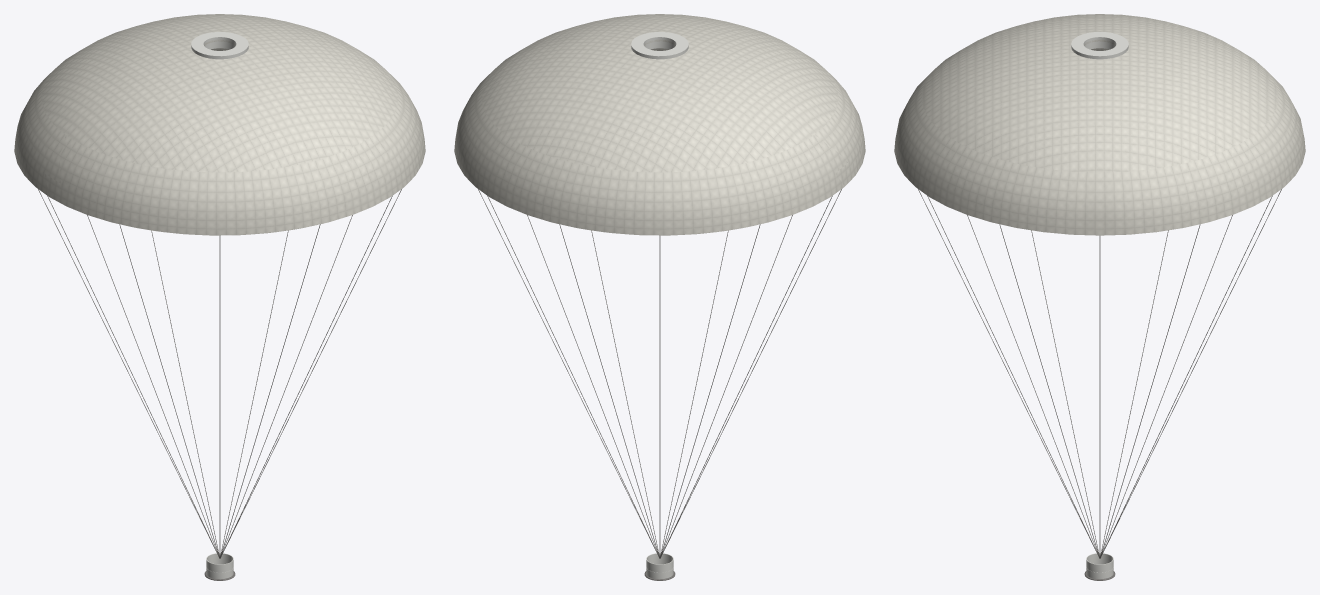
The model's file is ax_util_25_parachute_pack_m_deployed.glb.
The picture shows the model from 3 angles, left to right: view 1: azimuth 30°, elevation 25°; view 2: azimuth 150°, elevation 25°; view 3: azimuth 270°, elevation 25°; orthographic projection.
Parts seen in each view (by area): view 1: canopy, risers, vent_band, canister; view 2: canopy, risers, vent_band, canister; view 3: canopy, risers, vent_band, canister.
Boxes of the visible parts, x1,y1,x2,y2 form: canopy: (14, 14, 425, 235); risers: (38, 189, 401, 558); vent_band: (191, 32, 248, 59); canister: (206, 553, 233, 579); canopy: (454, 14, 865, 235); risers: (478, 189, 841, 558); vent_band: (631, 32, 688, 59); canister: (646, 553, 673, 579); canopy: (894, 14, 1305, 235); risers: (918, 189, 1281, 558); vent_band: (1071, 32, 1128, 59); canister: (1086, 553, 1113, 578).
Bounding box in the file's own units: 11.99 × 17.06 × 11.99.
3 materials, 2 textured.
